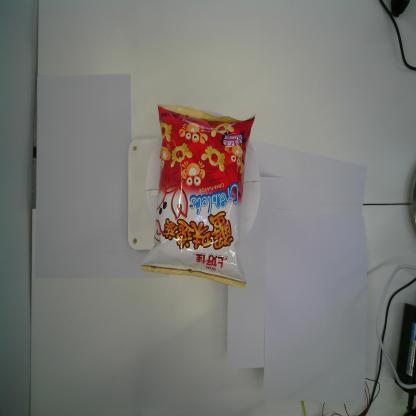Puffed Food: (139, 100, 257, 292)
